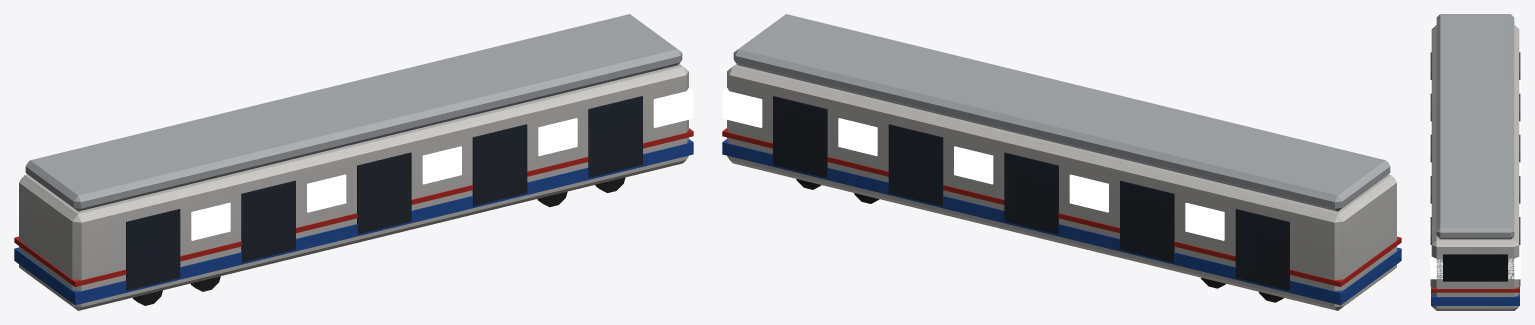
File: ld_train-DM5hTylK.glb
3 renders of one model, left to right at view 1: azimuth 30°, elevation 25°; view 2: azimuth 150°, elevation 25°; view 3: azimuth 270°, elevation 25°, orthographic. The views are drawn at different scales.
Size of the model in its own units: 16.08 by 3.08 by 2.78.
